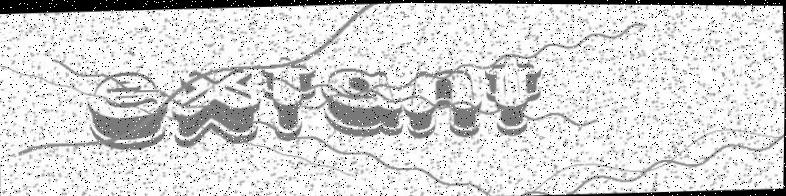a: (319, 64, 405, 139)
e: (85, 67, 169, 152)
n: (403, 66, 482, 141)
t: (483, 53, 545, 137), (261, 54, 319, 143)
x: (170, 66, 264, 148)
